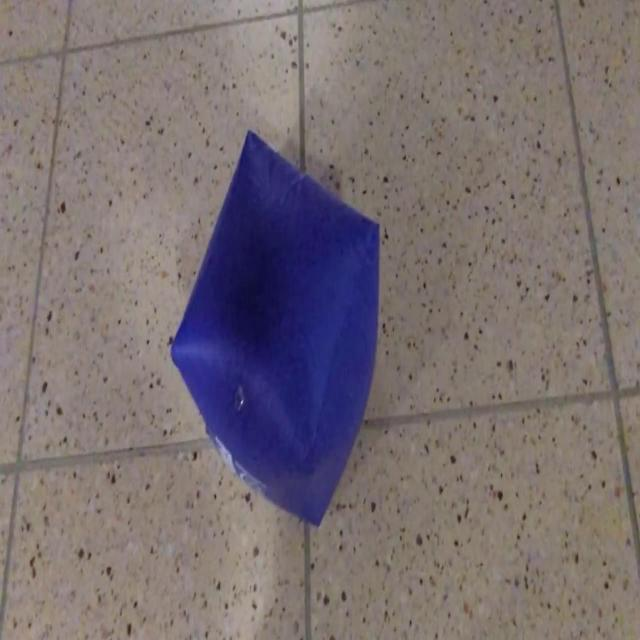frc_cube: (169, 126, 381, 526)
